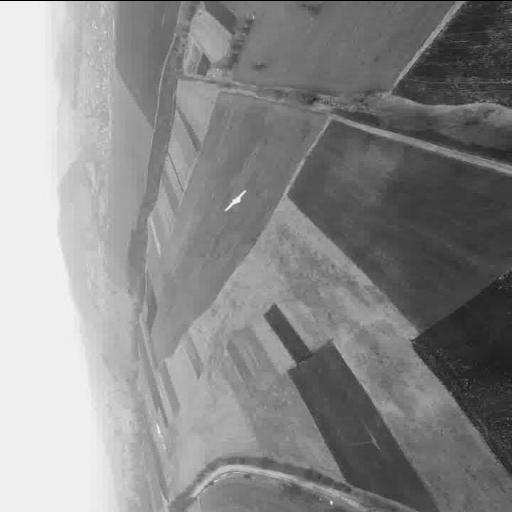uav: (206, 174, 262, 212)
